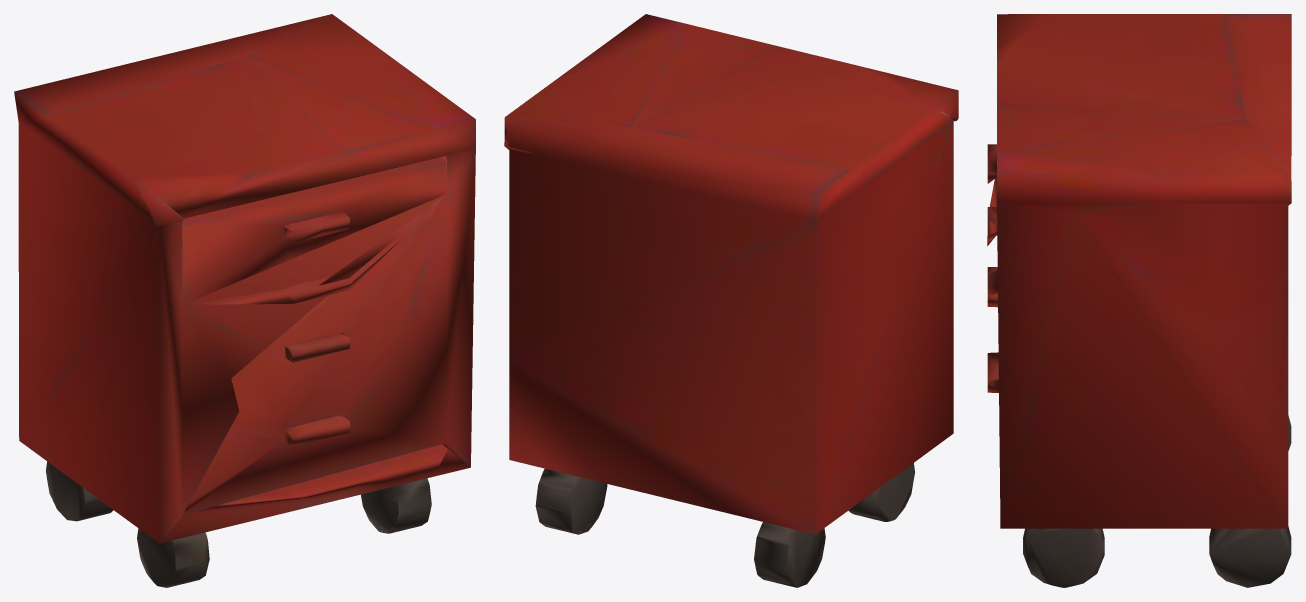
The picture shows the model from 3 angles, left to right: view 1: azimuth 30°, elevation 25°; view 2: azimuth 150°, elevation 25°; view 3: azimuth 270°, elevation 25°; orthographic projection. The views are drawn at different scales.
Bounding box in the file's own units: 1.5 × 1.9 × 1.21.
Materials: 1 (1 with a texture image).
